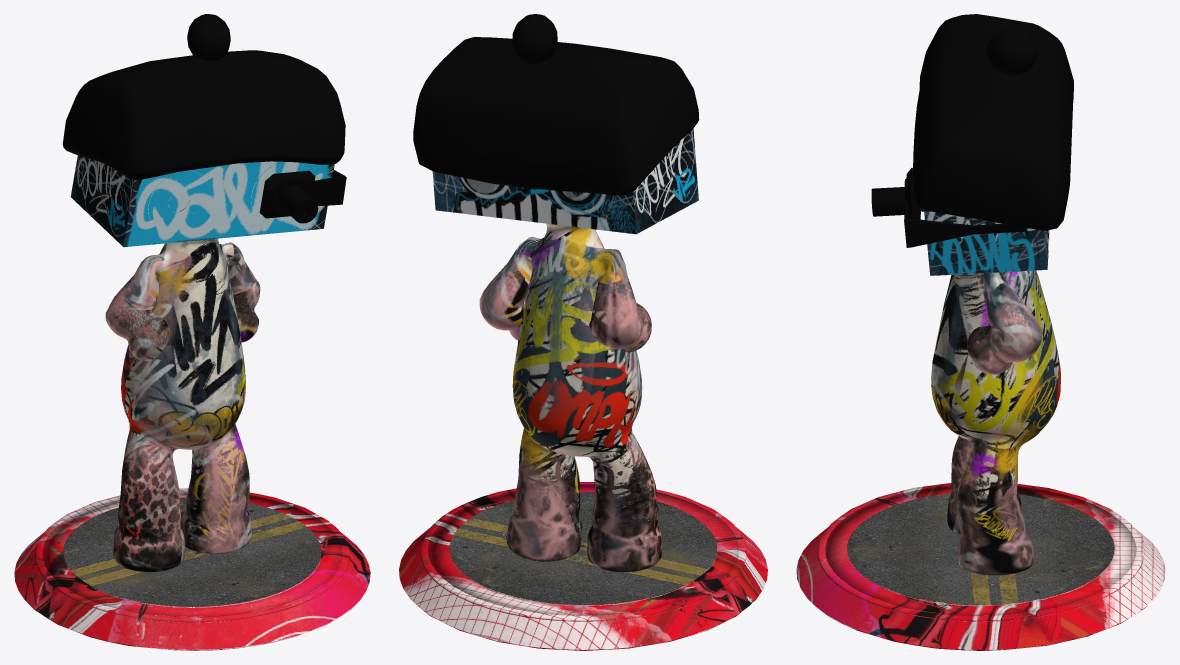
The picture shows the model from 3 angles, left to right: view 1: azimuth 30°, elevation 25°; view 2: azimuth 150°, elevation 25°; view 3: azimuth 270°, elevation 25°; orthographic projection. The views are drawn at different scales.
Parts seen in each view (by area): view 1: BBody; view 2: BBody; view 3: BBody.
Part boxes in pixels (box(x1,y1,x2,y2)): BBody: box(14, 14, 370, 650); BBody: box(399, 14, 767, 650); BBody: box(796, 14, 1165, 650).
Bounding box in the file's own units: 1.45 × 2.42 × 1.45.
5 materials, 4 textured.
